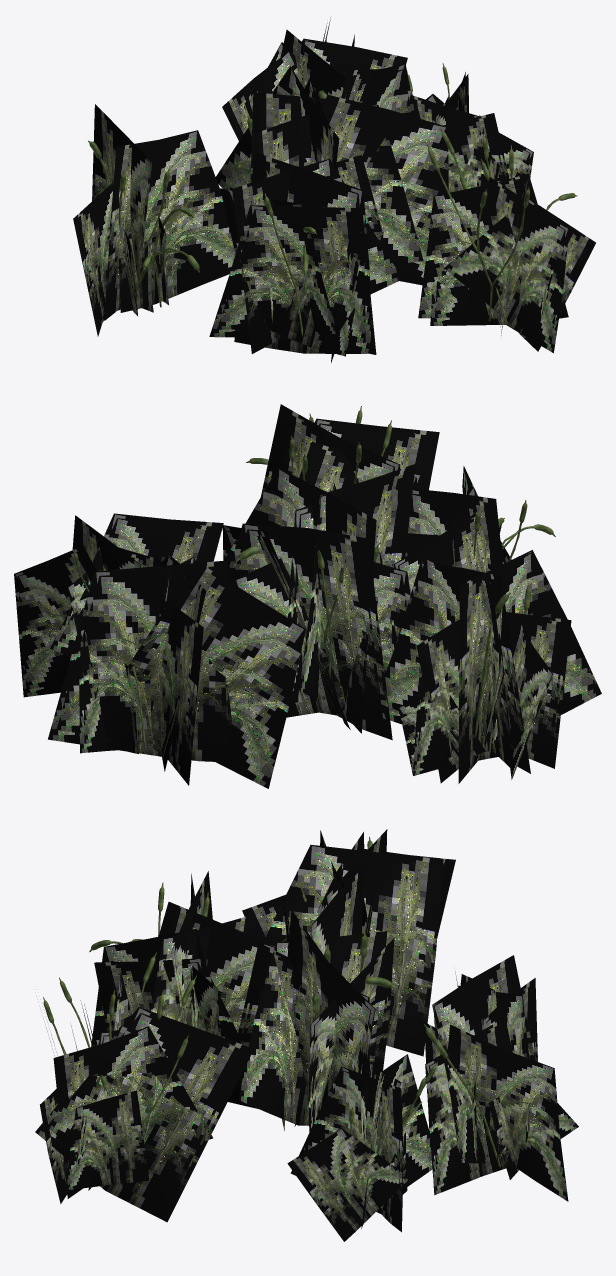
File: Cattail_Desktop_Cluster-transformed.glb
3 renders of one model, top to bottom at view 1: azimuth 30°, elevation 25°; view 2: azimuth 150°, elevation 25°; view 3: azimuth 270°, elevation 25°, orthographic. The views are drawn at different scales.
Parts seen in each view (by area): view 1: Cattail_Desktop_Cluster_LOD0; view 2: Cattail_Desktop_Cluster_LOD0; view 3: Cattail_Desktop_Cluster_LOD0.
Part boxes in pixels (bbox=[...]): Cattail_Desktop_Cluster_LOD0: bbox=[73, 17, 595, 362]; Cattail_Desktop_Cluster_LOD0: bbox=[14, 404, 601, 788]; Cattail_Desktop_Cluster_LOD0: bbox=[35, 829, 578, 1241].
Size of the model in its own units: 3.19 by 1.49 by 3.06.
2 materials, 2 textured.
